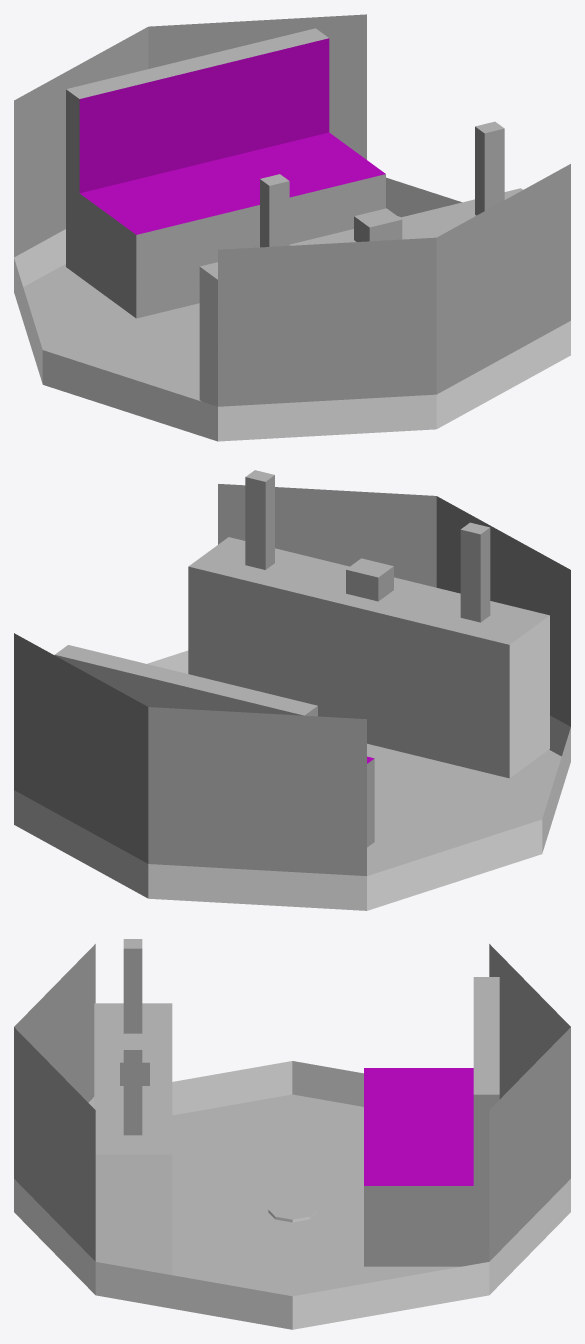
Rendered from timemachine_control_group.glb.
3 views of the same model, one above another, from view 1: azimuth 30°, elevation 25°; view 2: azimuth 150°, elevation 25°; view 3: azimuth 270°, elevation 25° (orthographic). The views are drawn at different scales.
Visible parts, largest first — view 1: timemachine_base_ring, seat_mesh, control_box, left_lever_mesh, right_lever_mesh, button_mesh; view 2: timemachine_base_ring, control_box, seat_mesh, right_lever_mesh, left_lever_mesh, button_mesh; view 3: timemachine_base_ring, seat_mesh, control_box, left_lever_mesh, right_lever_mesh, pointpower_mesh.
Boxes of the visible parts, bbox=[...] form: timemachine_base_ring: bbox=[14, 14, 570, 441]; seat_mesh: bbox=[66, 28, 385, 318]; control_box: bbox=[199, 188, 522, 406]; left_lever_mesh: bbox=[475, 121, 504, 215]; right_lever_mesh: bbox=[260, 174, 289, 247]; button_mesh: bbox=[354, 208, 402, 241]; timemachine_base_ring: bbox=[14, 484, 570, 910]; control_box: bbox=[188, 537, 549, 778]; seat_mesh: bbox=[54, 645, 374, 847]; right_lever_mesh: bbox=[460, 522, 490, 622]; left_lever_mesh: bbox=[245, 470, 274, 569]; button_mesh: bbox=[346, 558, 393, 601]; timemachine_base_ring: bbox=[14, 944, 570, 1329]; seat_mesh: bbox=[364, 977, 499, 1266]; control_box: bbox=[94, 1003, 172, 1274]; left_lever_mesh: bbox=[123, 1040, 142, 1135]; right_lever_mesh: bbox=[123, 939, 142, 1033]; pointpower_mesh: bbox=[268, 1199, 316, 1222].
Bounding box in the file's own units: 0.02 × 0.00876 × 0.02.
